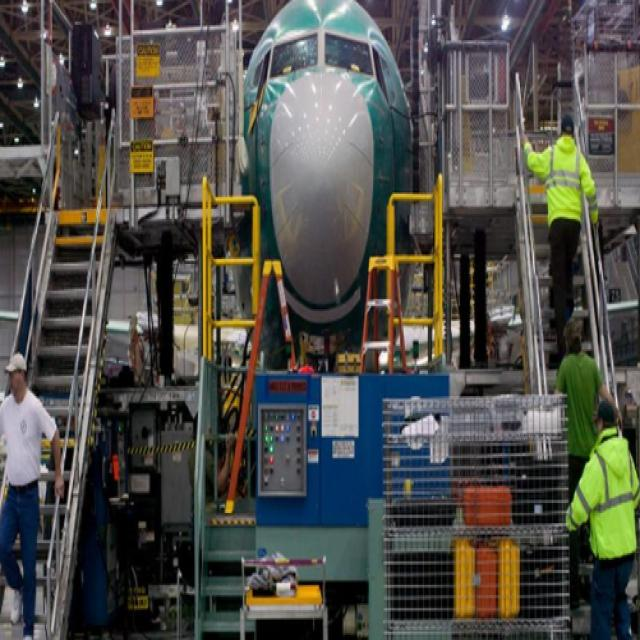vest: (558, 423, 640, 568), (525, 132, 599, 236)
